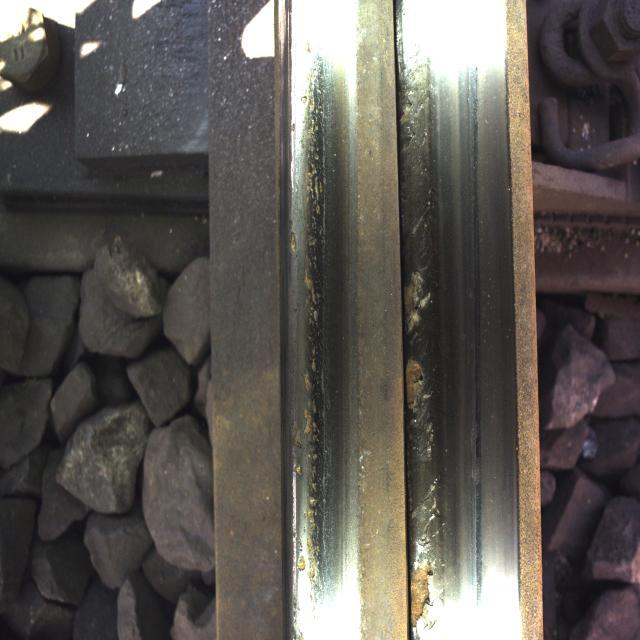crack: (400, 41, 462, 640)
scar: (294, 26, 355, 602)
